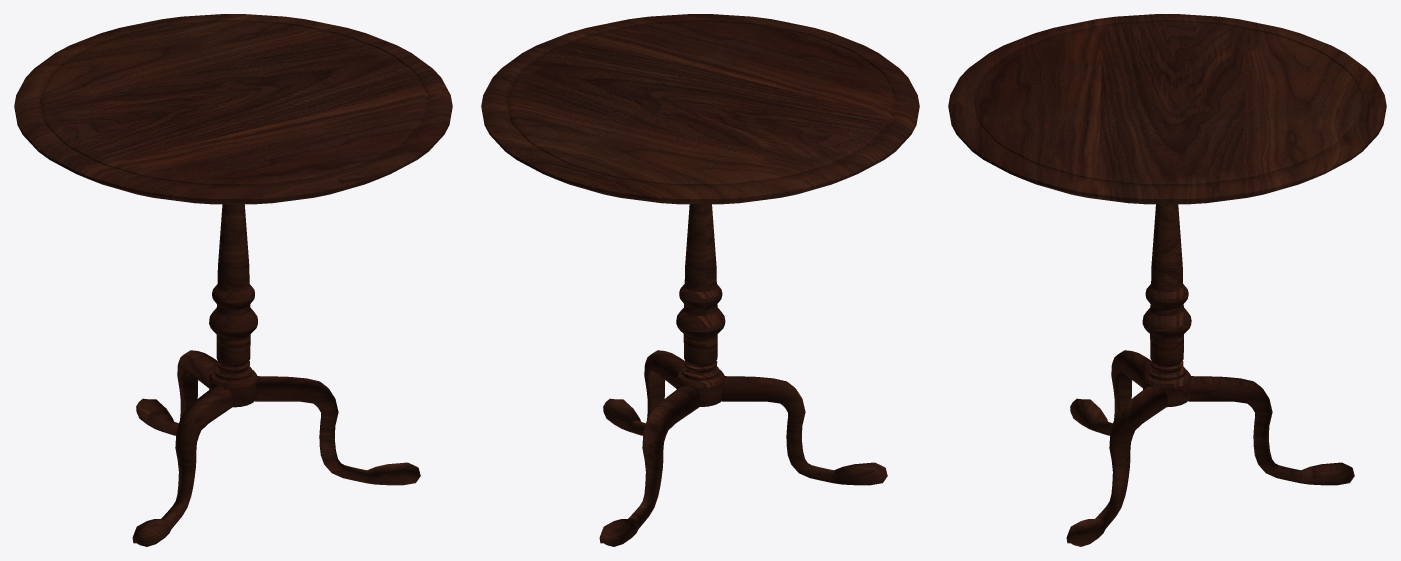
Rendered from small_table1_23_2_2018.fbx.
3 renders of one model, left to right at view 1: azimuth 30°, elevation 25°; view 2: azimuth 150°, elevation 25°; view 3: azimuth 270°, elevation 25°, orthographic.
Visible parts, largest first — view 1: Cylinder001; view 2: Cylinder001; view 3: Cylinder001.
Part boxes in pixels (box(x1,y1,x2,y2)): Cylinder001: box(14, 14, 452, 546); Cylinder001: box(481, 14, 919, 546); Cylinder001: box(948, 14, 1386, 546).
Size of the model in its own units: 35.87 by 34.28 by 35.97.
1 material, 1 textured.
